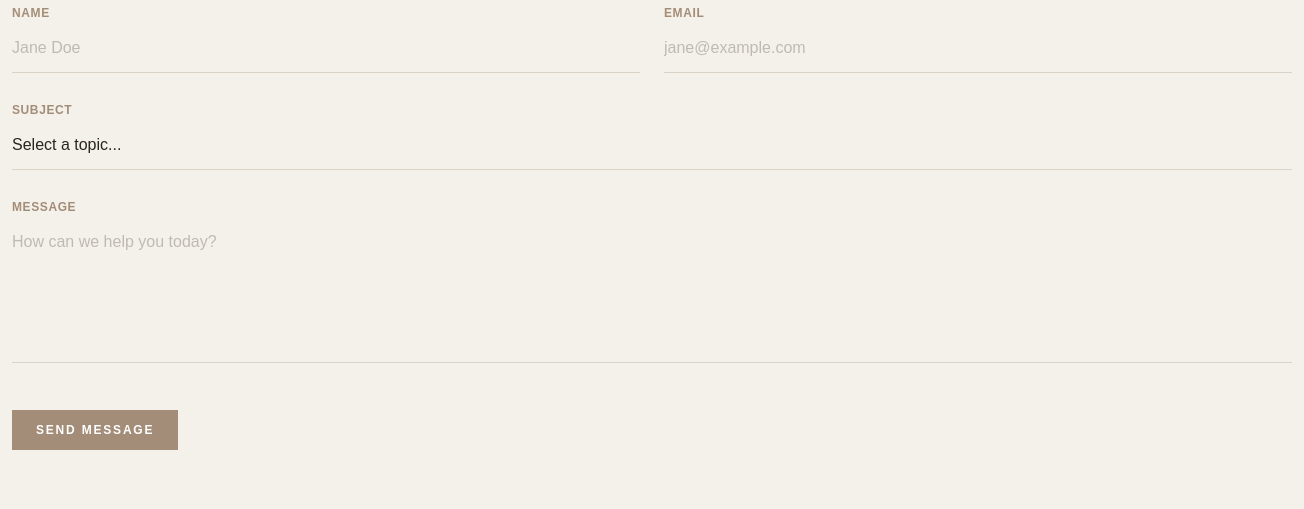
Test case: ContactForm › shows error message when request fails
Step 1. Type "Ada Lovelace" into the field labelled "Name" → [326, 48], box [12,24,640,73]
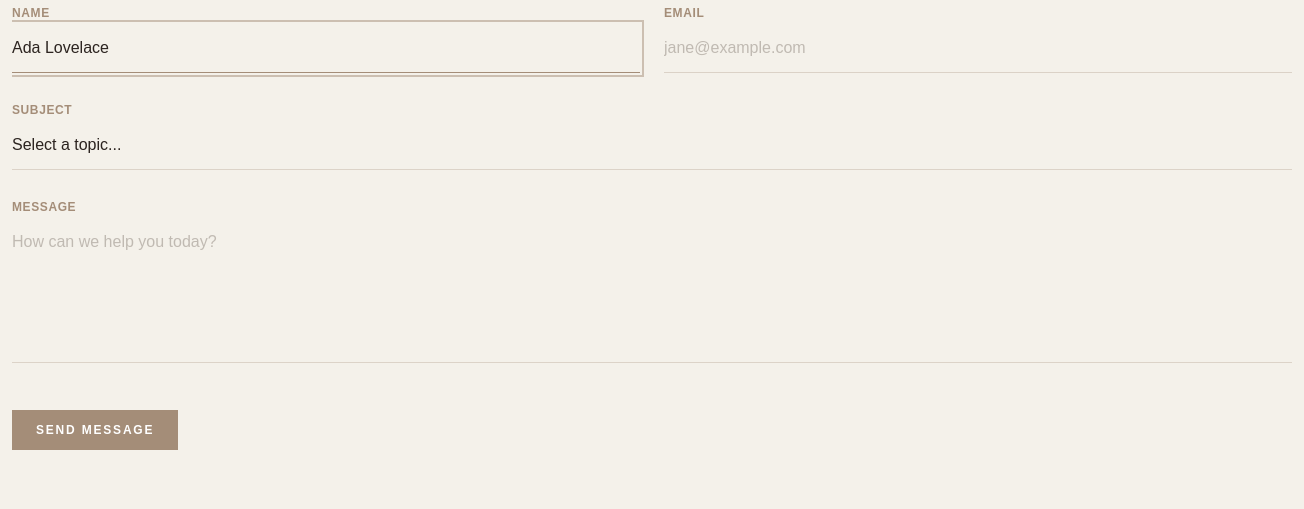
Step 2. Type "ada@example.com" into the field labelled "Email" → [978, 48], box [664,24,1292,73]
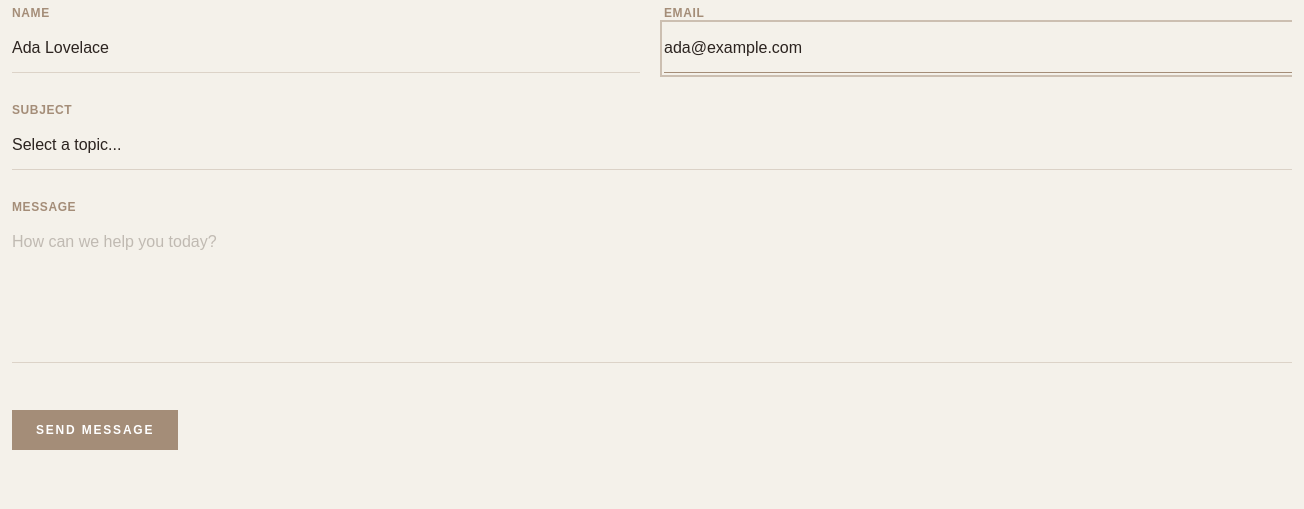
Step 3. Select "General Inquiry" in the dropdown labelled "Subject" → [652, 146], box [12,121,1292,170]
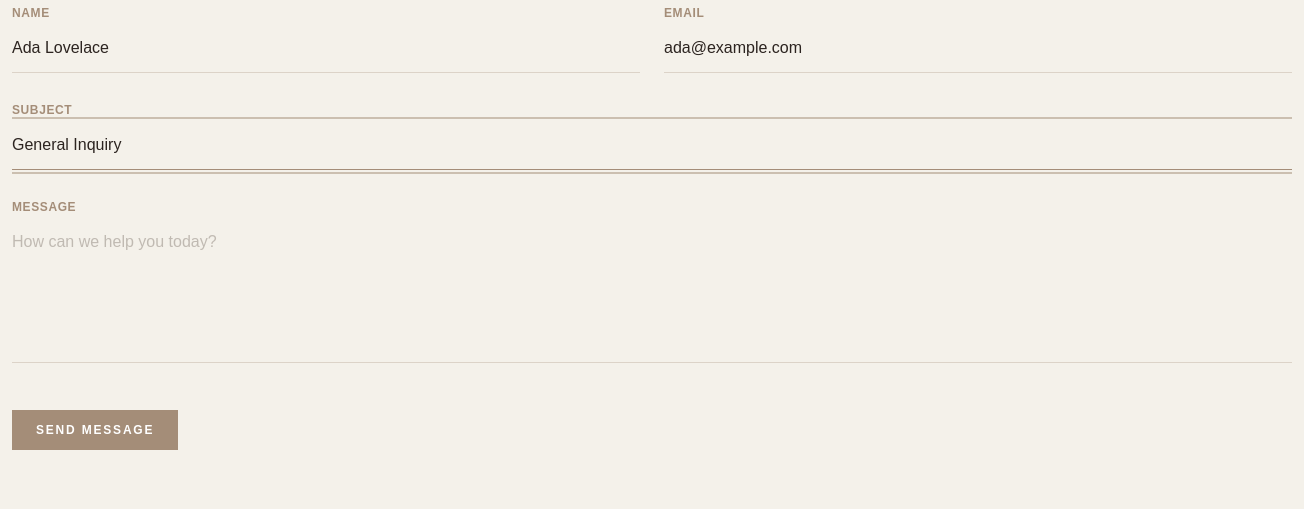
Step 4. Type "Hello there!" into the text box labelled "Message" → [652, 290], box [12,218,1292,363]
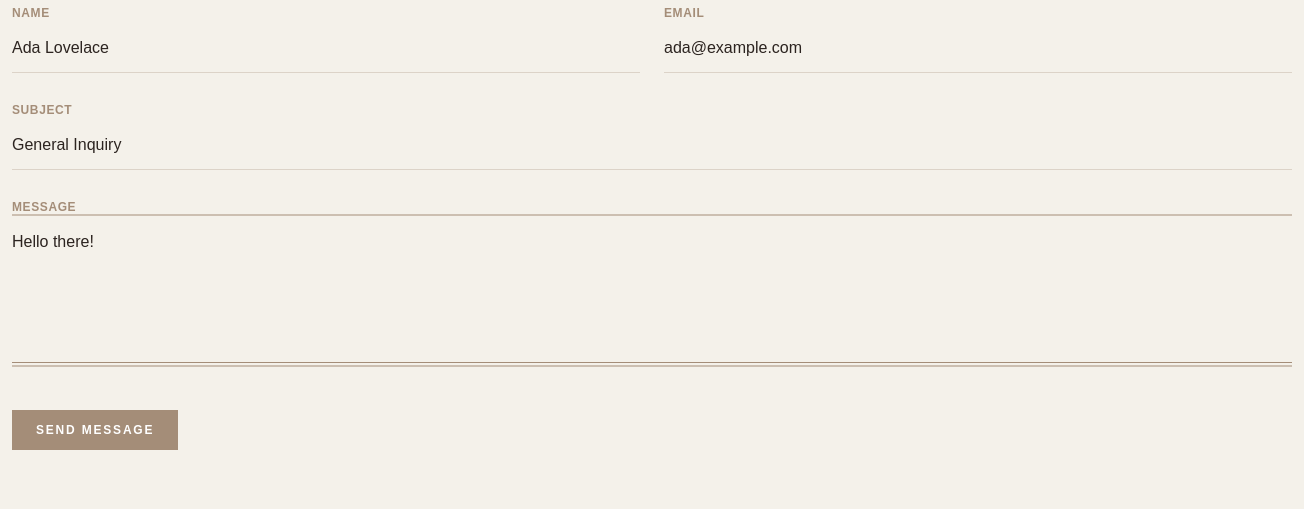
Step 5. Click the button "Send Message" → [95, 430], box [12,410,178,450]
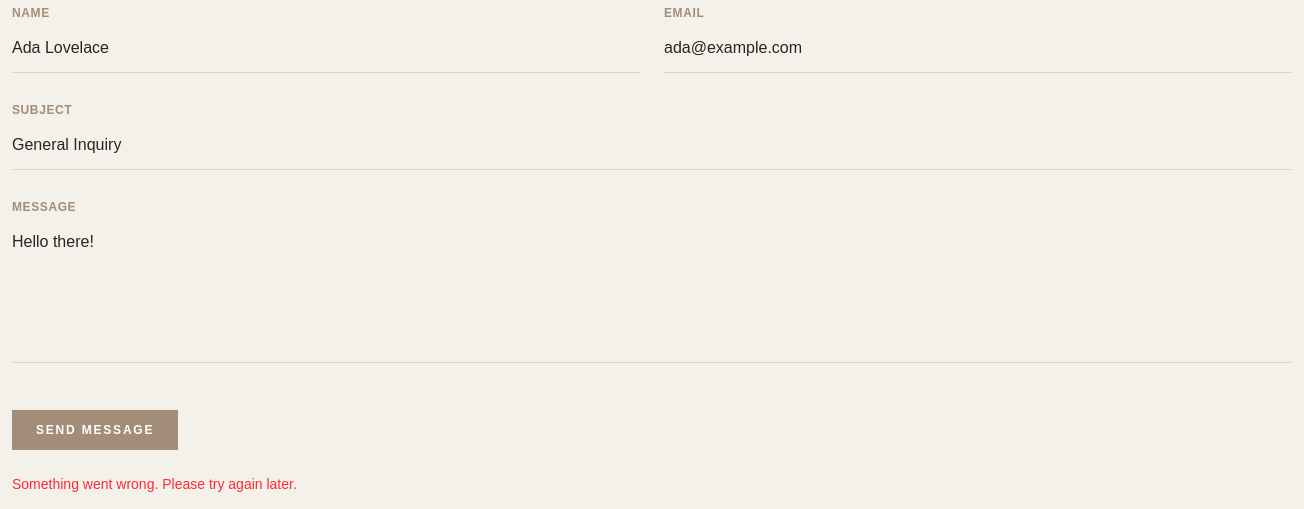
expect the text "Something went wrong. Please try again later." is shown: met, box [12,476,297,492]
